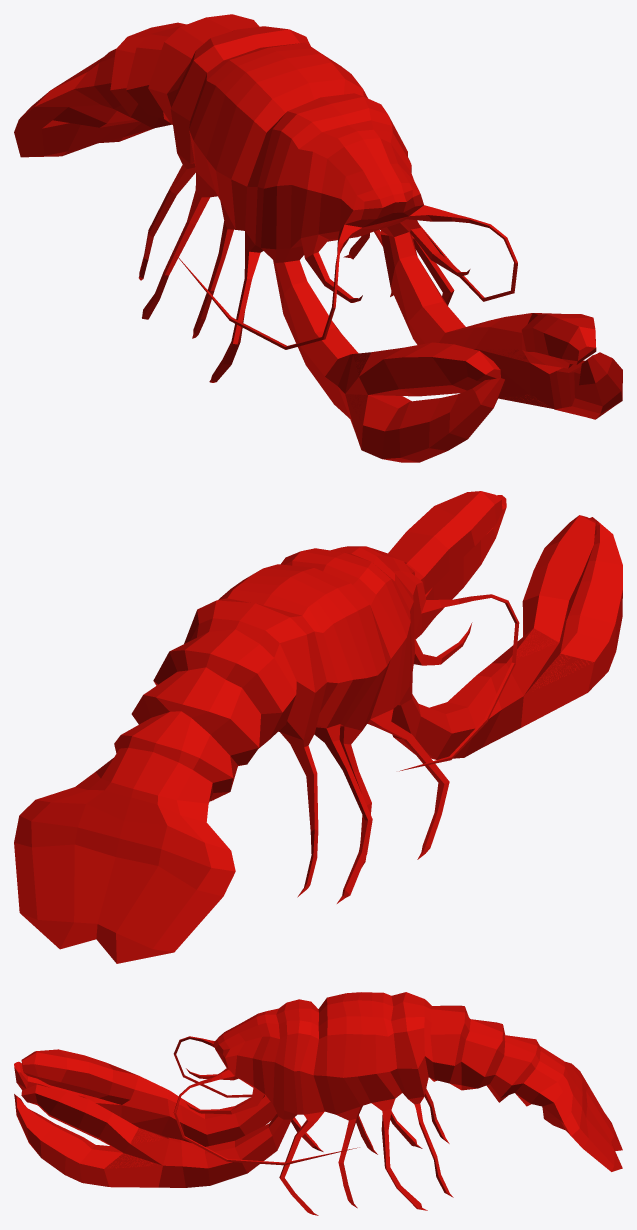
The model's file is uploads_files_2454909_Lobster.obj.
The picture shows the model from 3 angles, top to bottom: view 1: azimuth 30°, elevation 25°; view 2: azimuth 150°, elevation 25°; view 3: azimuth 270°, elevation 25°; orthographic projection. The views are drawn at different scales.
Visible parts, largest first — view 1: Lobster_LobsterMesh; view 2: Lobster_LobsterMesh; view 3: Lobster_LobsterMesh.
Part boxes in pixels (<box>): Lobster_LobsterMesh: <box>14,14,622,462</box>; Lobster_LobsterMesh: <box>14,491,622,963</box>; Lobster_LobsterMesh: <box>14,992,622,1215</box>.
Bounding box in the file's own units: 0.3951 × 0.4562 × 1.36.
